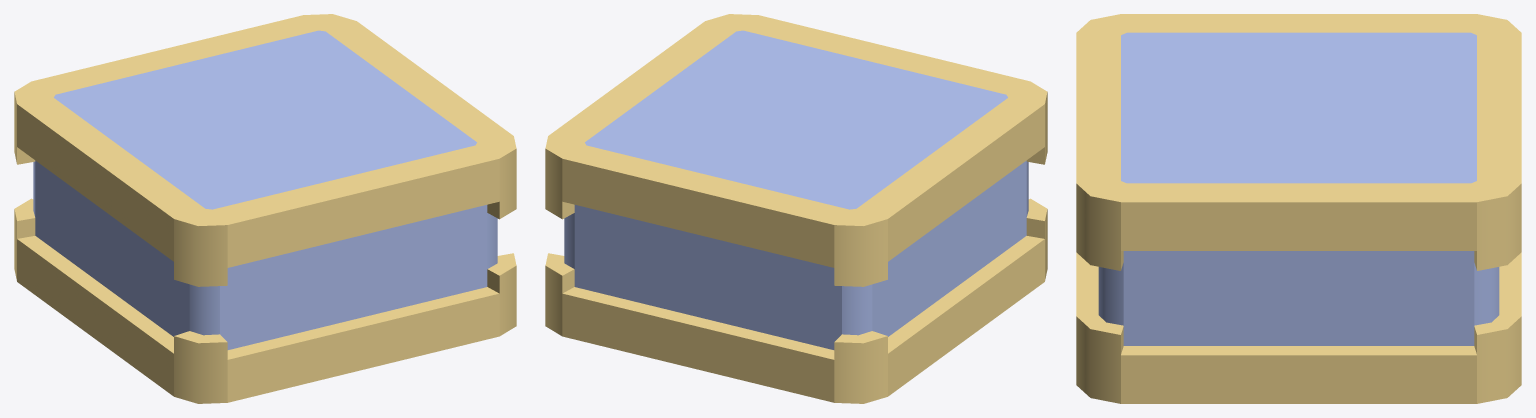
3 renders of one model, left to right at view 1: azimuth 30°, elevation 25°; view 2: azimuth 150°, elevation 25°; view 3: azimuth 270°, elevation 25°, orthographic. The views are drawn at different scales.
Visible parts, largest first — view 1: blockMovingBlue; view 2: blockMovingBlue; view 3: blockMovingBlue.
Part boxes in pixels (bbox=[...]): blockMovingBlue: bbox=[14, 14, 516, 403]; blockMovingBlue: bbox=[545, 14, 1047, 403]; blockMovingBlue: bbox=[1076, 14, 1521, 403].
Bounding box in the file's own units: 1 × 0.5 × 1.
